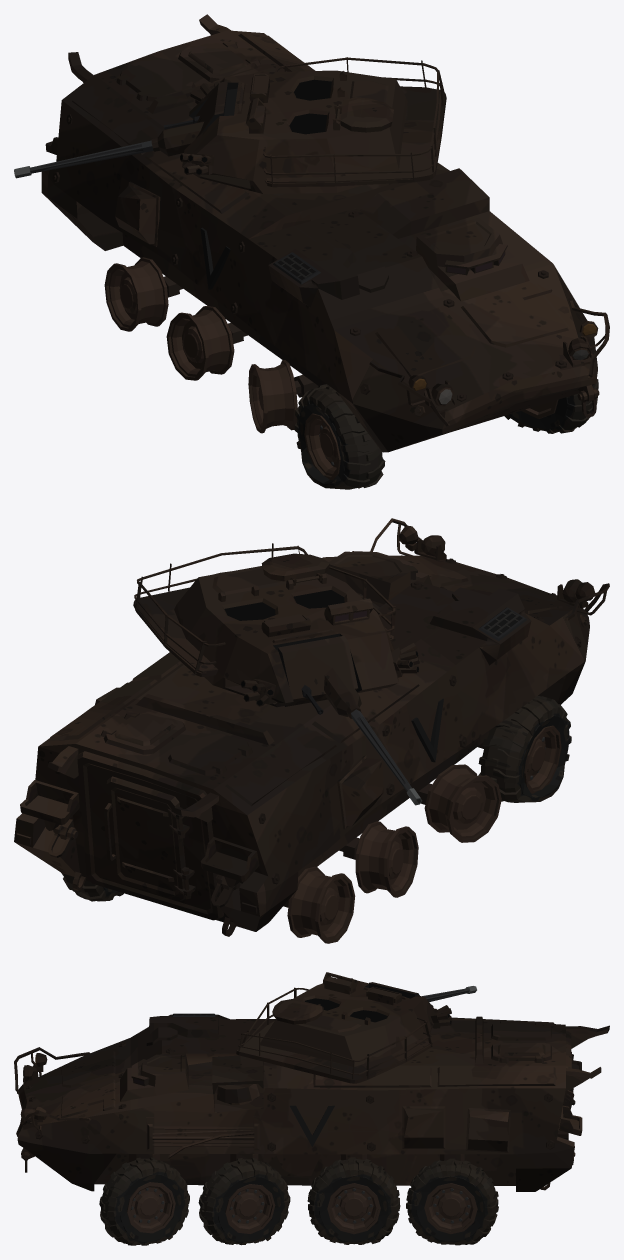
File: SM_Veh_APC_Heavy_01_Destroyed.fbx
The picture shows the model from 3 angles, top to bottom: view 1: azimuth 30°, elevation 25°; view 2: azimuth 150°, elevation 25°; view 3: azimuth 270°, elevation 25°; orthographic projection. The views are drawn at different scales.
Parts seen in each view (by area): view 1: SM_Veh_APC_Heavy_01_Destroyed; view 2: SM_Veh_APC_Heavy_01_Destroyed; view 3: SM_Veh_APC_Heavy_01_Destroyed.
Part boxes in pixels (x1,y1,x2,y2): SM_Veh_APC_Heavy_01_Destroyed: (14, 14, 609, 489); SM_Veh_APC_Heavy_01_Destroyed: (14, 518, 609, 943); SM_Veh_APC_Heavy_01_Destroyed: (14, 972, 609, 1245).
Bounding box in the file's own units: 402 × 291 × 761.
